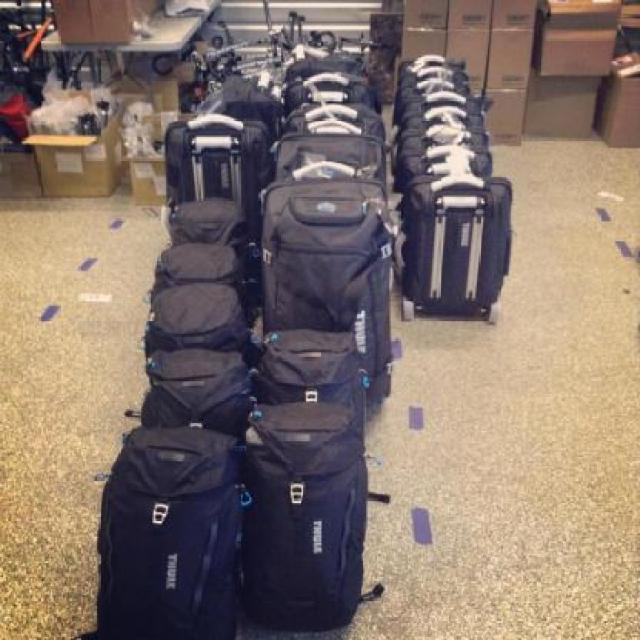backpack: (94, 421, 248, 640), (246, 397, 372, 634), (265, 176, 389, 326), (398, 171, 518, 323), (162, 112, 269, 197), (137, 346, 251, 423), (256, 325, 362, 403), (146, 280, 246, 348), (277, 132, 380, 177), (162, 192, 245, 243), (189, 71, 283, 112), (154, 244, 238, 282), (286, 108, 382, 134), (286, 77, 371, 106), (390, 84, 488, 108), (280, 48, 369, 74), (392, 104, 488, 128), (397, 148, 491, 169), (396, 130, 490, 148), (397, 52, 465, 71), (394, 70, 469, 84)
